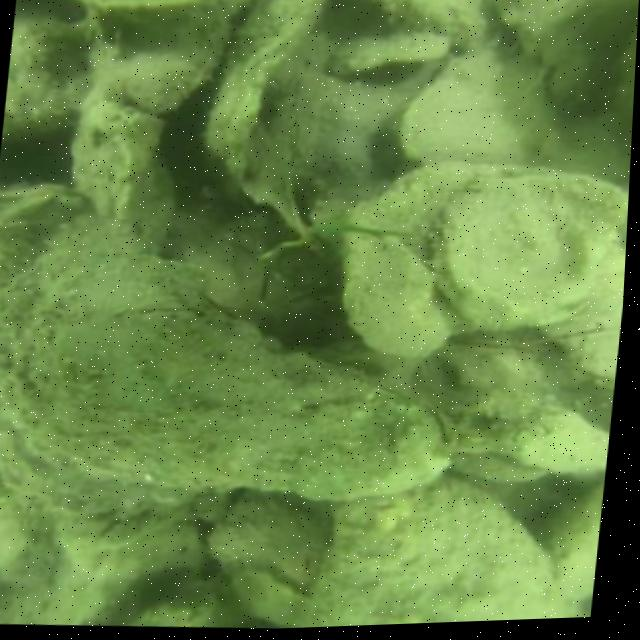Oyster-Closed: (0, 216, 465, 496), (435, 178, 629, 329)
Oyster-Indeterminate: (306, 478, 577, 627), (402, 51, 565, 161), (69, 81, 176, 248), (490, 0, 639, 103), (102, 16, 238, 112), (346, 236, 453, 357), (213, 496, 334, 590), (376, 0, 509, 49)
